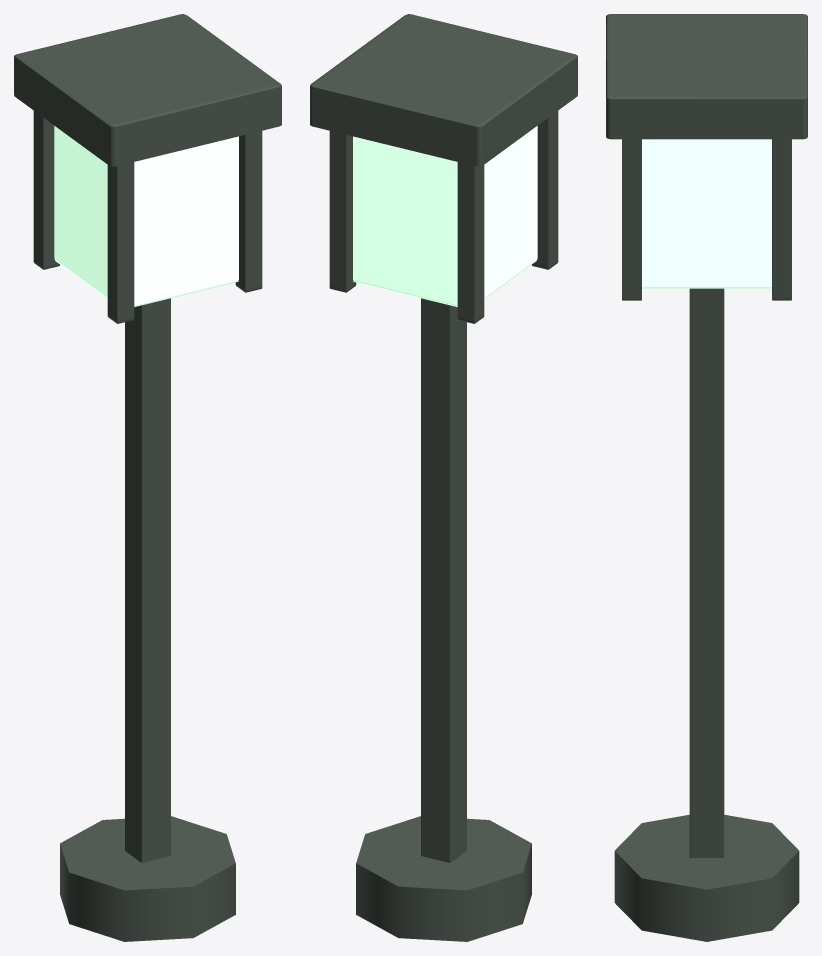
Rendered from lamp-1.glb.
The picture shows the model from 3 angles, left to right: view 1: azimuth 30°, elevation 25°; view 2: azimuth 150°, elevation 25°; view 3: azimuth 270°, elevation 25°; orthographic projection.
Visible parts, largest first — view 1: lamp-1-0; view 2: lamp-1-0; view 3: lamp-1-0.
Part boxes in pixels (x1,y1,x2,y2): lamp-1-0: (14,14,281,941); lamp-1-0: (310,14,577,941); lamp-1-0: (606,14,807,941).
Size of the model in its own units: 0.35 by 1.62 by 0.35.
